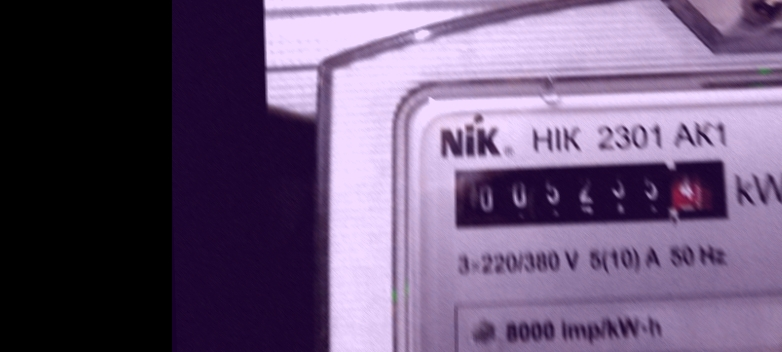0: (508, 177, 529, 210), (476, 181, 495, 213)
2: (574, 172, 596, 206)
3: (606, 169, 631, 202)
4: (675, 167, 698, 204)
5: (640, 167, 663, 204), (542, 174, 562, 207)
screen: (437, 146, 741, 241)
